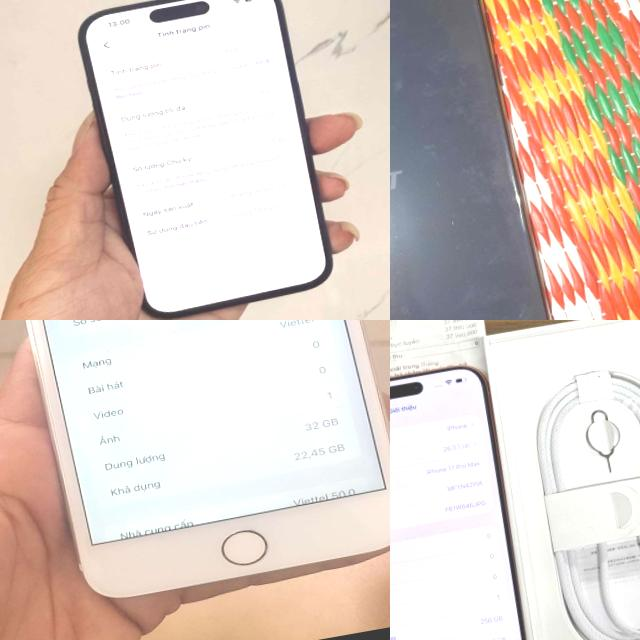scratch: (390, 171, 561, 320)
